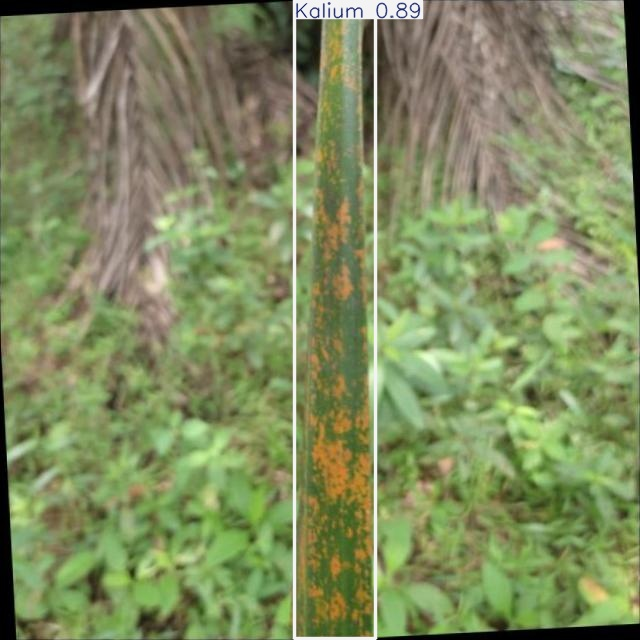Kalium: (294, 1, 376, 638)
